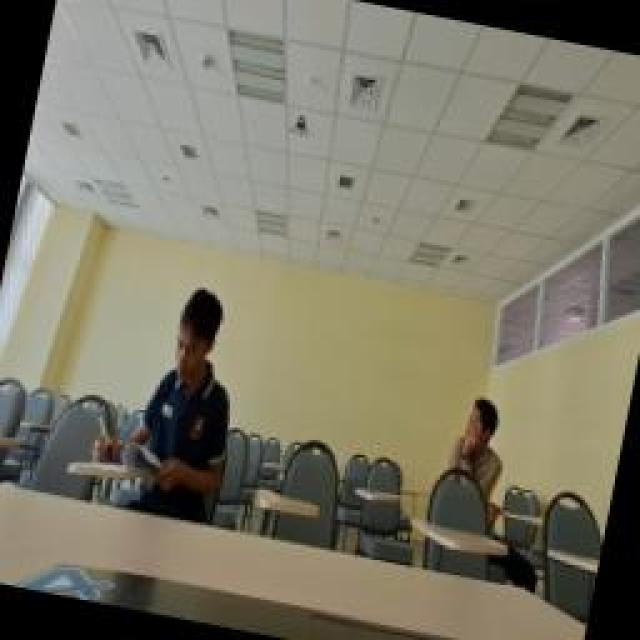study: (88, 275, 260, 527), (422, 377, 520, 545)
